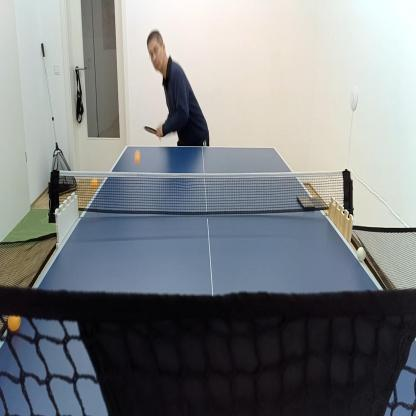Ball: (6, 314, 22, 333), (357, 245, 367, 264), (134, 149, 142, 165), (91, 176, 99, 191)
